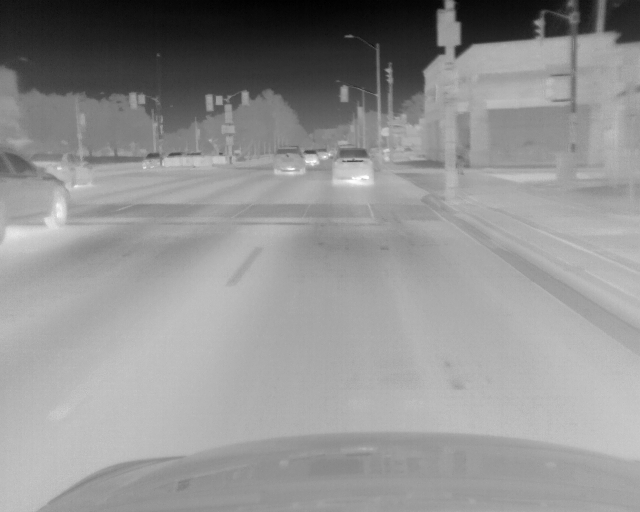car: (1, 148, 70, 240), (32, 152, 96, 189), (331, 147, 374, 187), (274, 145, 305, 175), (142, 150, 163, 170), (304, 149, 318, 166), (318, 147, 328, 160)
